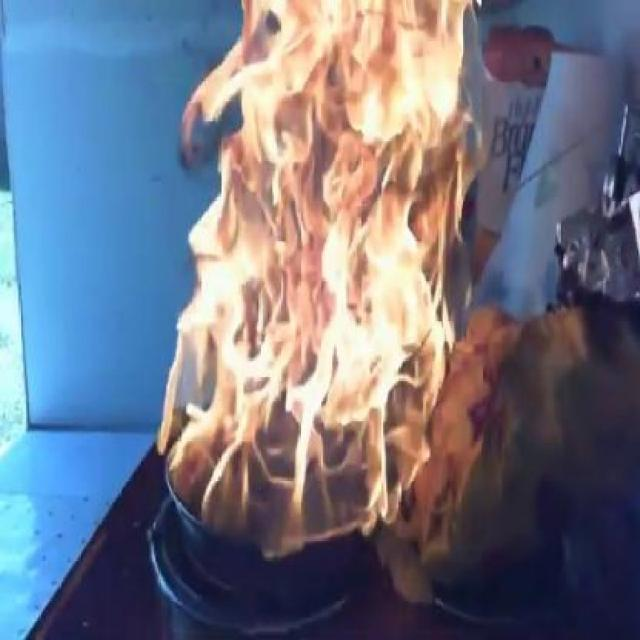fire: (163, 250, 462, 552), (175, 2, 480, 238)
